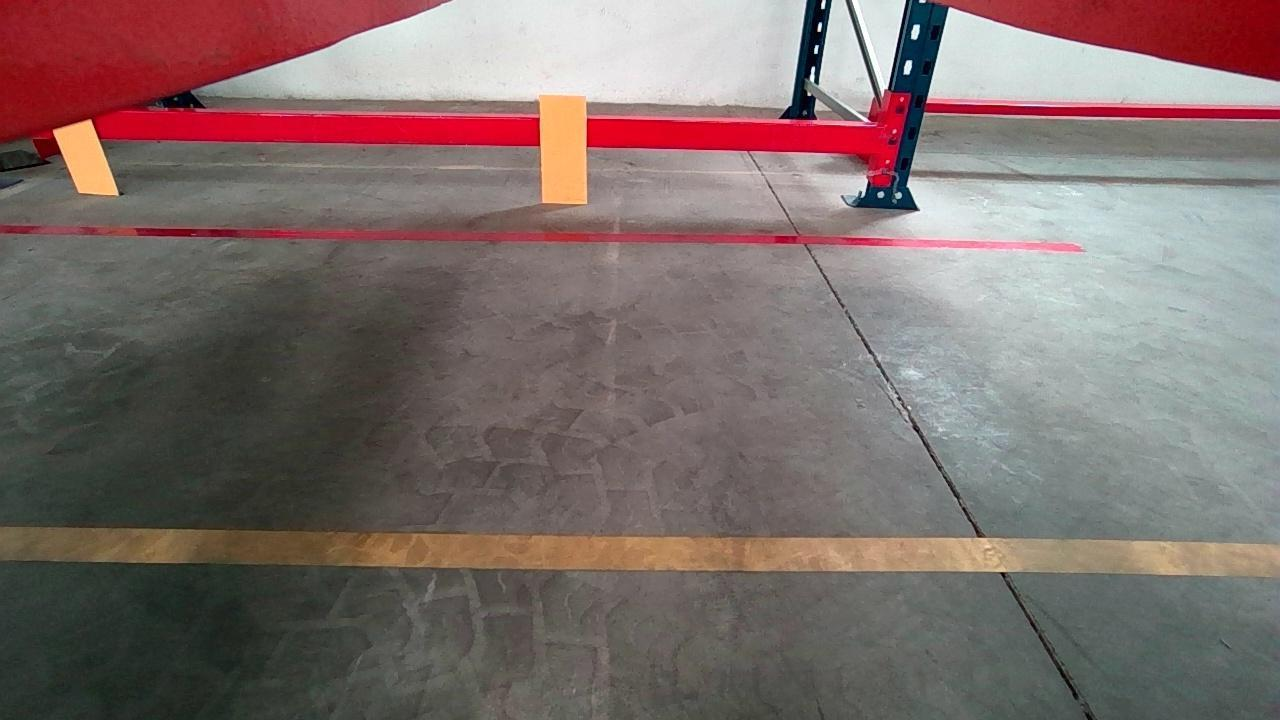h_rack: (30, 106, 883, 151)
orange_strip: (538, 95, 586, 204), (52, 119, 117, 192)
red_line: (0, 221, 1088, 252)
yellow_line: (1, 524, 1279, 581)
